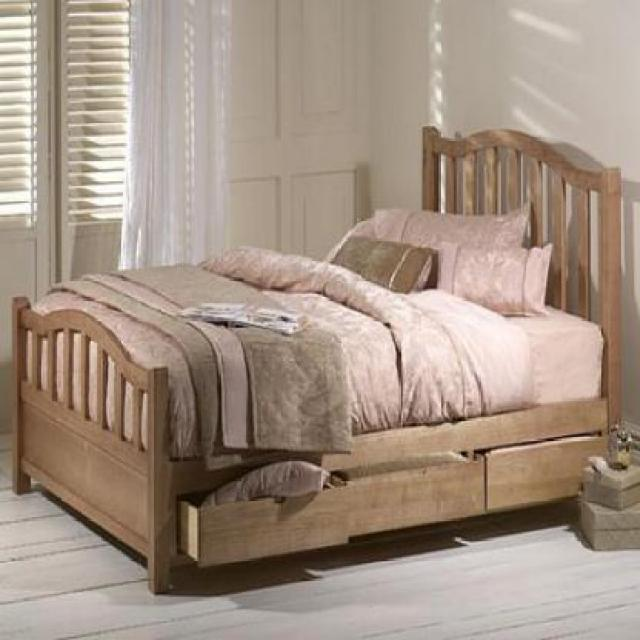Bed: (8, 94, 630, 607)
